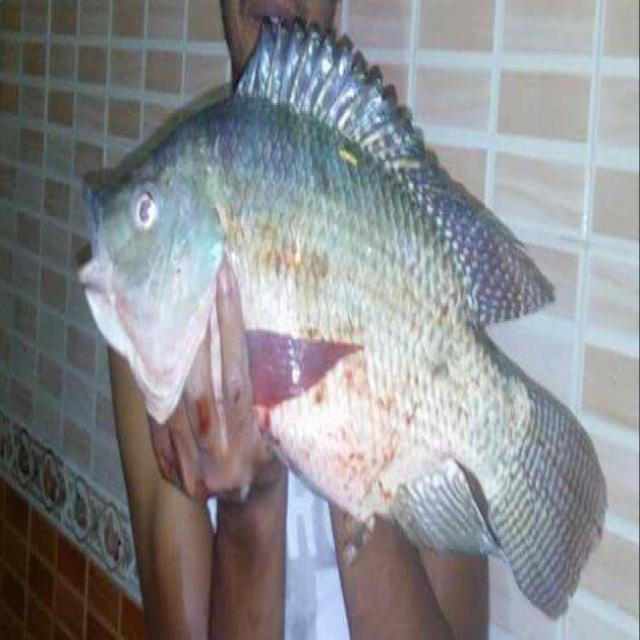ikan: (66, 10, 608, 623)
